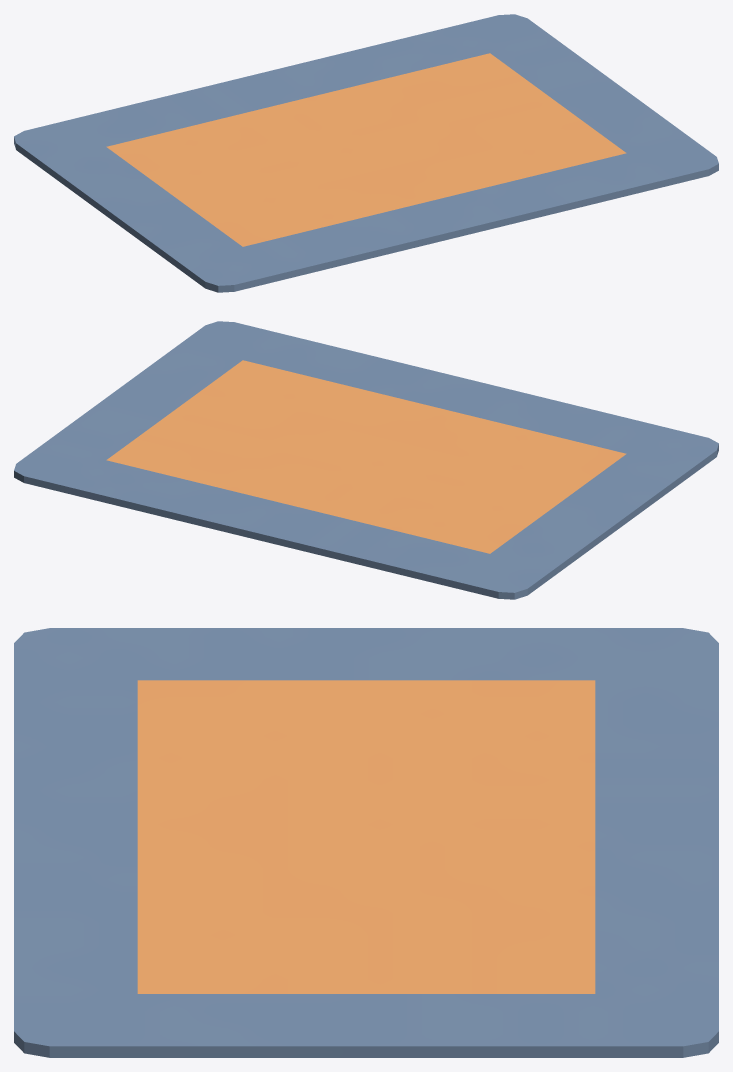
File: Carpet_01_04.fbx
The picture shows the model from 3 angles, top to bottom: view 1: azimuth 30°, elevation 25°; view 2: azimuth 150°, elevation 25°; view 3: azimuth 270°, elevation 25°; orthographic projection. The views are drawn at different scales.
Visible parts, largest first — view 1: Carpet_01_04; view 2: Carpet_01_04; view 3: Carpet_01_04.
Part boxes in pixels (x1,y1,x2,y2): Carpet_01_04: [14, 14, 718, 292]; Carpet_01_04: [14, 321, 718, 599]; Carpet_01_04: [14, 628, 718, 1057].
Size of the model in its own units: 1.56 by 0.0201 by 1.11.
